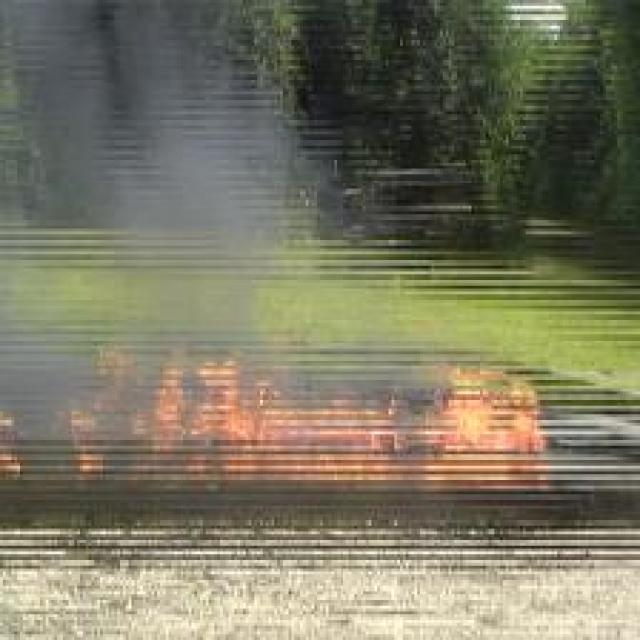Fire: (66, 348, 552, 468)
